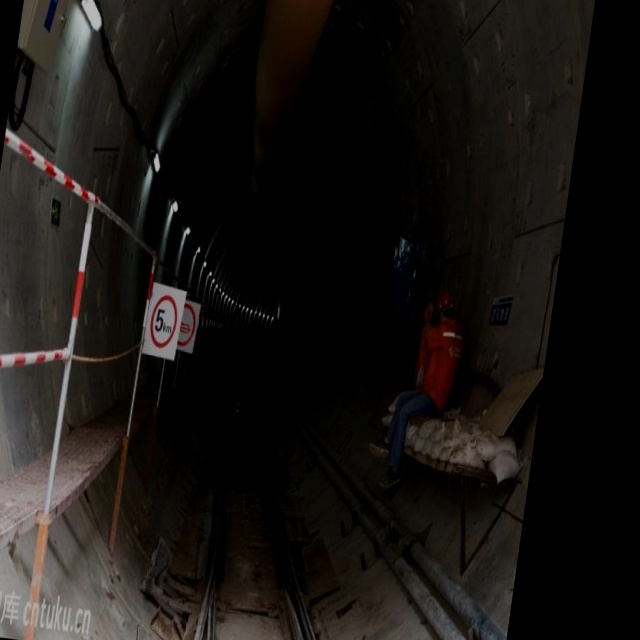Con_Casco: (433, 289, 457, 326)
